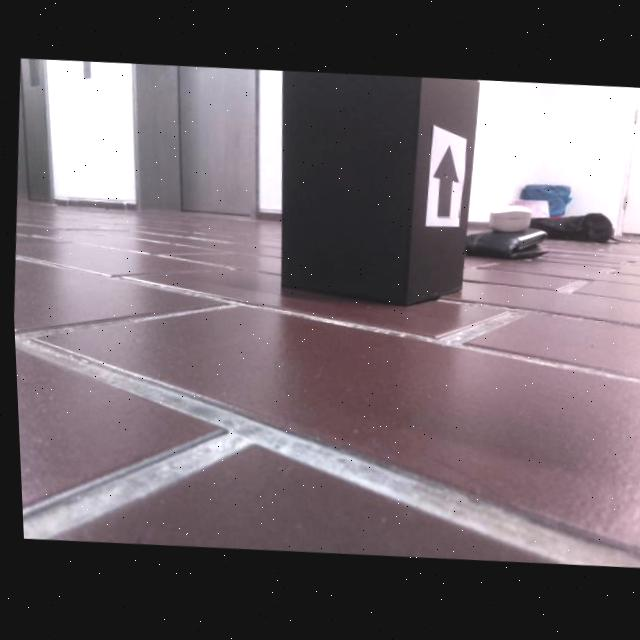UP: (431, 145, 458, 220)
